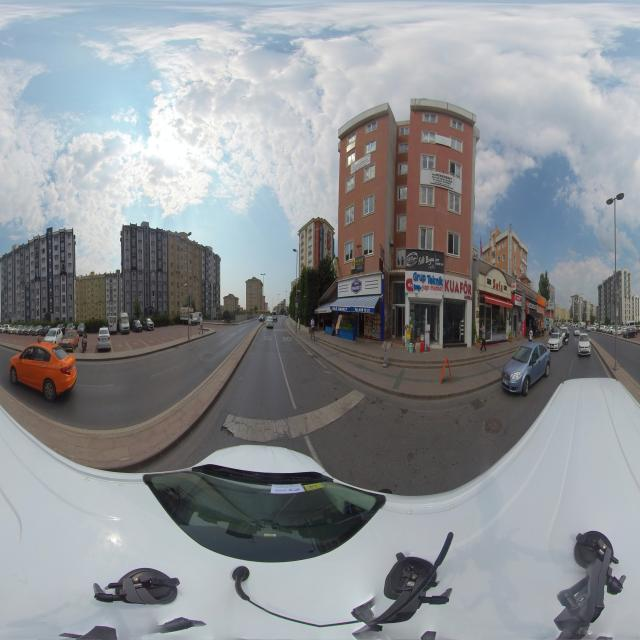SignStore: (405, 249, 444, 274), (405, 272, 444, 294), (344, 275, 375, 297), (444, 276, 472, 300), (516, 280, 538, 301), (351, 255, 364, 273), (491, 277, 504, 292), (526, 298, 537, 311), (513, 293, 522, 306), (537, 305, 544, 313)
